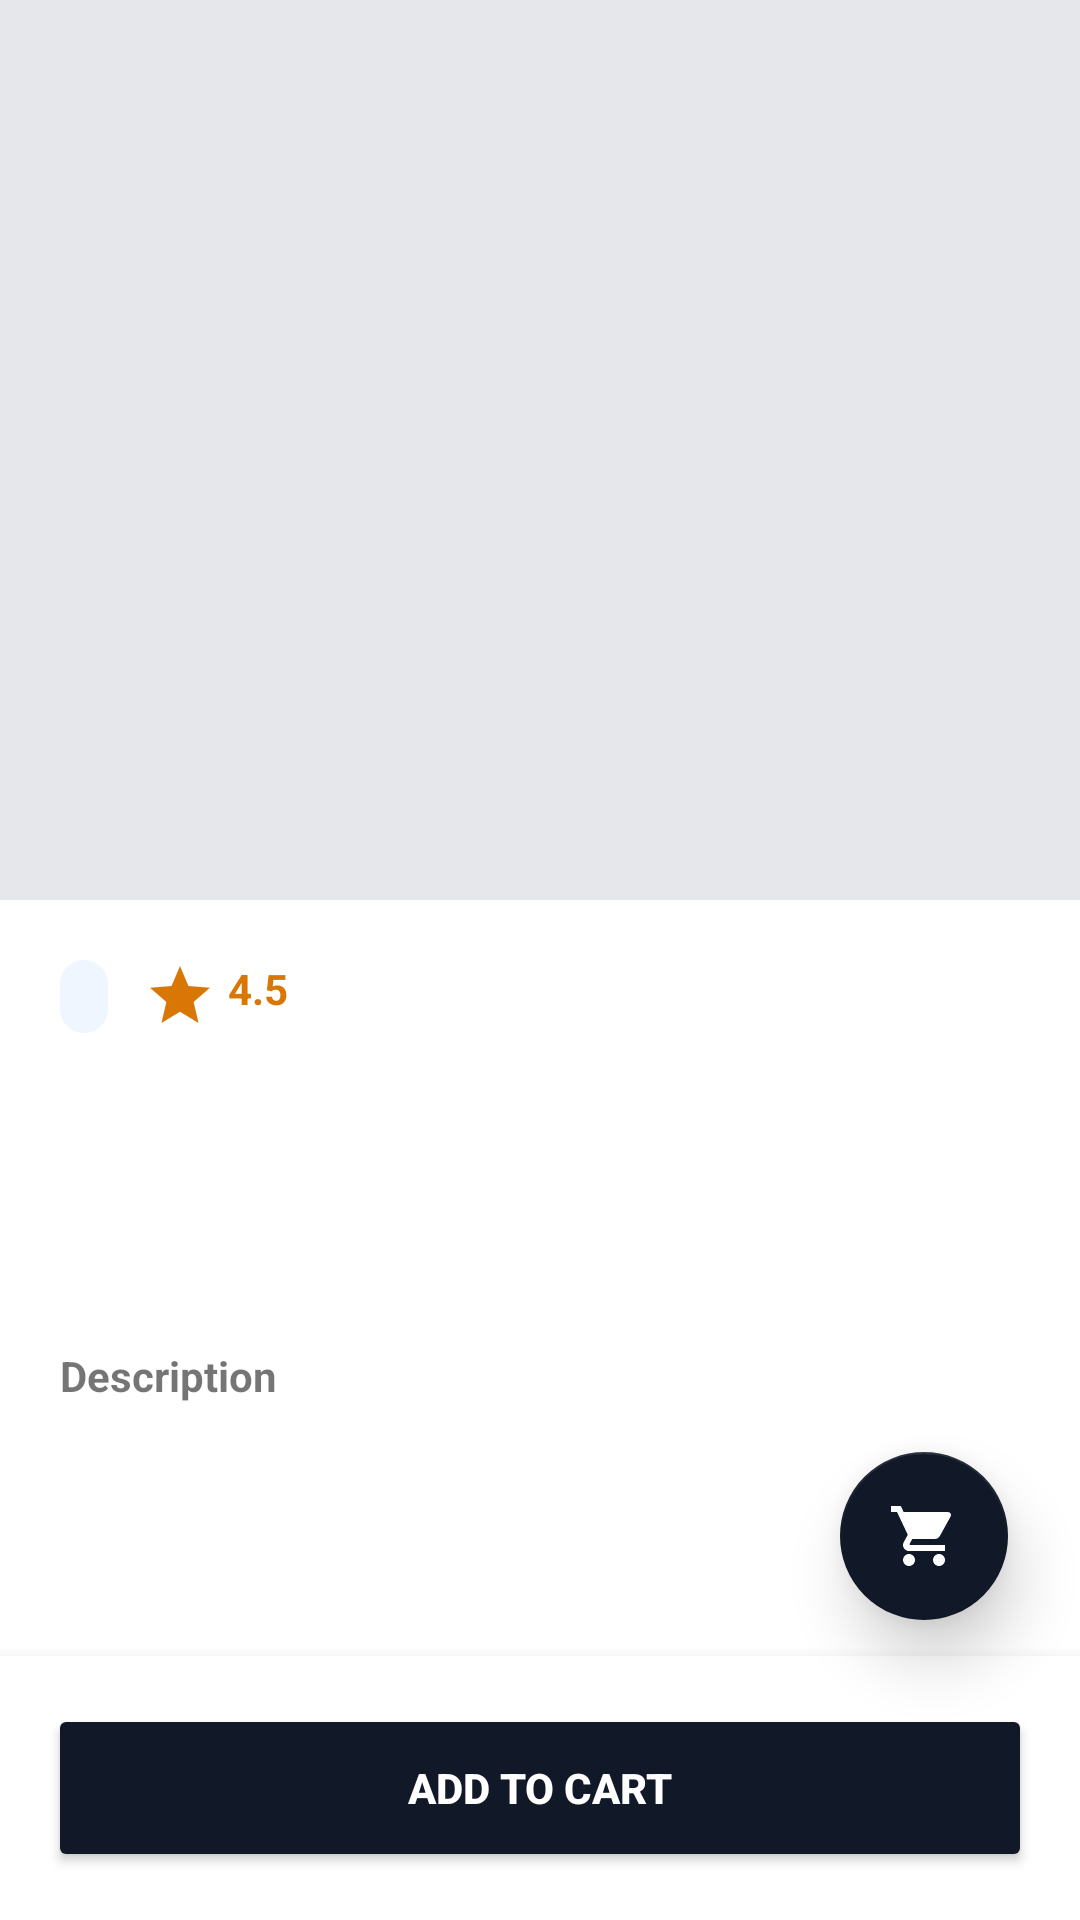

Screen size 1080×1920. Icon name, then its center in pixels as (x=x, y=y):
Go to Cart: (x=924, y=1536)
